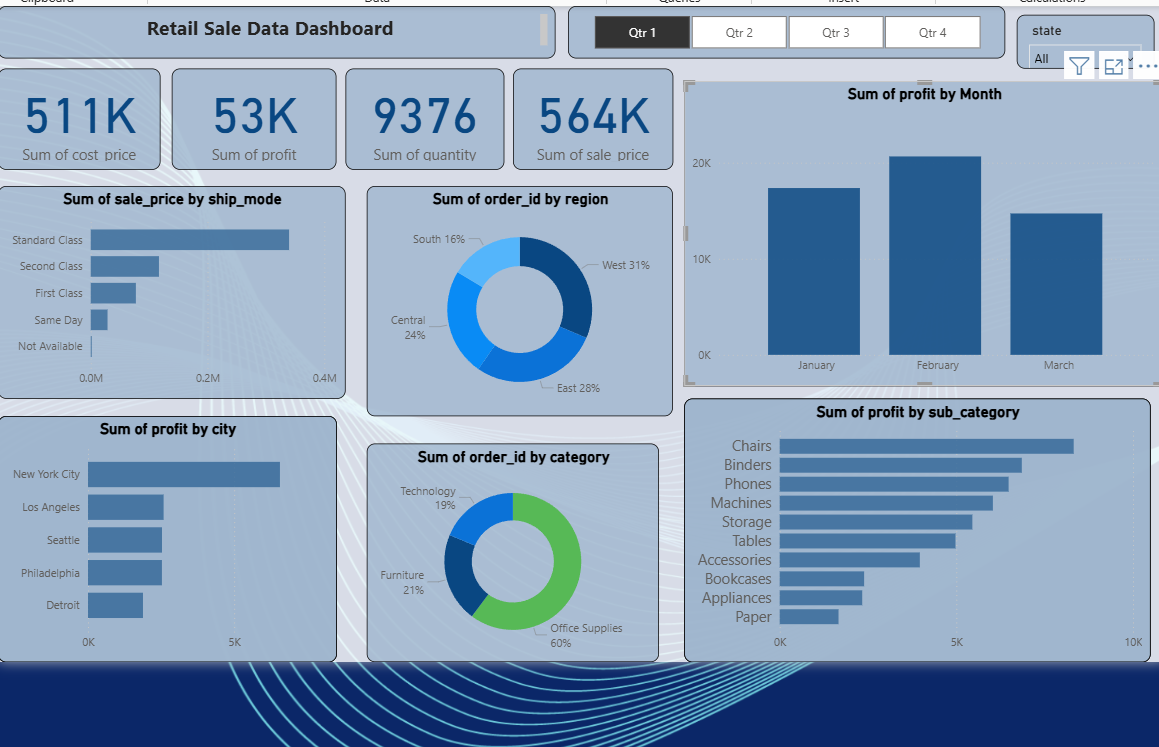

This screenshot's page, from the dashboard's own definition file:
{"tool":"powerbi","page":{"name":"Page 1","canvas":[1280,720],"ordinal":0},"visuals":[{"type":"textbox","box":[0,0,612,57.6],"z":0},{"type":"columnChart","fields":{"Category":["data.order_date.Variation.Date Hierarchy.Month"],"Y":["Sum(data.profit)"]},"box":[753.3,82.3,526.9,334.8],"z":1000},{"type":"barChart","fields":{"Category":["data.sub_category"],"Y":["Sum(data.profit)"]},"box":[753.3,430.9,511.8,289.5],"z":2000},{"type":"donutChart","fields":{"Category":["data.category"],"Y":["Sum(data.order_id)"]},"box":[404.8,480.3,321.1,240.1],"z":3000},{"type":"donutChart","fields":{"Y":["Sum(data.order_id)"],"Category":["data.region"]},"box":[404.8,197.6,336.2,252.5],"z":4000},{"type":"card","fields":{"Values":["Sum(data.cost_price)"]},"box":[0,68.6,178.4,111.1],"z":5000},{"type":"card","fields":{"Values":["Sum(data.quantity)"]},"box":[381.5,68.6,174.3,111.1],"z":6000},{"type":"card","fields":{"Values":["Sum(data.profit)"]},"box":[190.7,68.6,181.1,111.1],"z":7000},{"type":"card","fields":{"Values":["Sum(data.sale_price)"]},"box":[565.4,68.6,175.6,111.1],"z":8000},{"type":"barChart","fields":{"Y":["Sum(data.profit)"],"Category":["data.city"]},"box":[0,450.1,371.9,270.3],"z":9000},{"type":"barChart","fields":{"Category":["data.sub_category"],"Y":["Sum(data.profit)"]},"box":[753.3,430.5,511.8,289.5],"z":10000},{"type":"barChart","fields":{"Y":["Sum(data.profit)"],"Category":["data.city"]},"box":[0,449.7,371.9,270.3],"z":11000},{"type":"barChart","fields":{"Category":["data.ship_mode"],"Y":["Sum(data.sale_price)"]},"box":[0,197.6,381.5,233.3],"z":12000},{"type":"slicer","fields":{"Values":["data.order_date.Variation.Date Hierarchy.Quarter"]},"box":[625.7,0,480.3,57.6],"z":13000},{"type":"slicer","fields":{"Values":["data.state"]},"box":[1118.4,9.6,150.9,59],"z":14000}]}

Visuals, with their boxes in screenshot pixels (x1, y1, x2, y2):
textbox: {"left": 0, "top": 0, "right": 555, "bottom": 50}
columnChart - data.order_date.Variation.Date Hierarchy.Month x Sum(data.profit): {"left": 685, "top": 73, "right": 1158, "bottom": 383}
barChart - data.sub_category x Sum(data.profit): {"left": 685, "top": 396, "right": 1158, "bottom": 664}
donutChart - data.category x Sum(data.order_id): {"left": 363, "top": 442, "right": 660, "bottom": 664}
donutChart - Sum(data.order_id) x data.region: {"left": 363, "top": 180, "right": 674, "bottom": 414}
card - Sum(data.cost_price): {"left": 0, "top": 60, "right": 153, "bottom": 163}
card - Sum(data.quantity): {"left": 341, "top": 60, "right": 502, "bottom": 163}
card - Sum(data.profit): {"left": 164, "top": 60, "right": 332, "bottom": 163}
card - Sum(data.sale_price): {"left": 511, "top": 60, "right": 674, "bottom": 163}
barChart - Sum(data.profit) x data.city: {"left": 0, "top": 414, "right": 332, "bottom": 664}
barChart - data.sub_category x Sum(data.profit): {"left": 685, "top": 396, "right": 1158, "bottom": 664}
barChart - Sum(data.profit) x data.city: {"left": 0, "top": 413, "right": 332, "bottom": 664}
barChart - data.ship_mode x Sum(data.sale_price): {"left": 0, "top": 180, "right": 341, "bottom": 396}
slicer - data.order_date.Variation.Date Hierarchy.Quarter: {"left": 567, "top": 0, "right": 1012, "bottom": 50}
slicer - data.state: {"left": 1023, "top": 6, "right": 1158, "bottom": 60}
